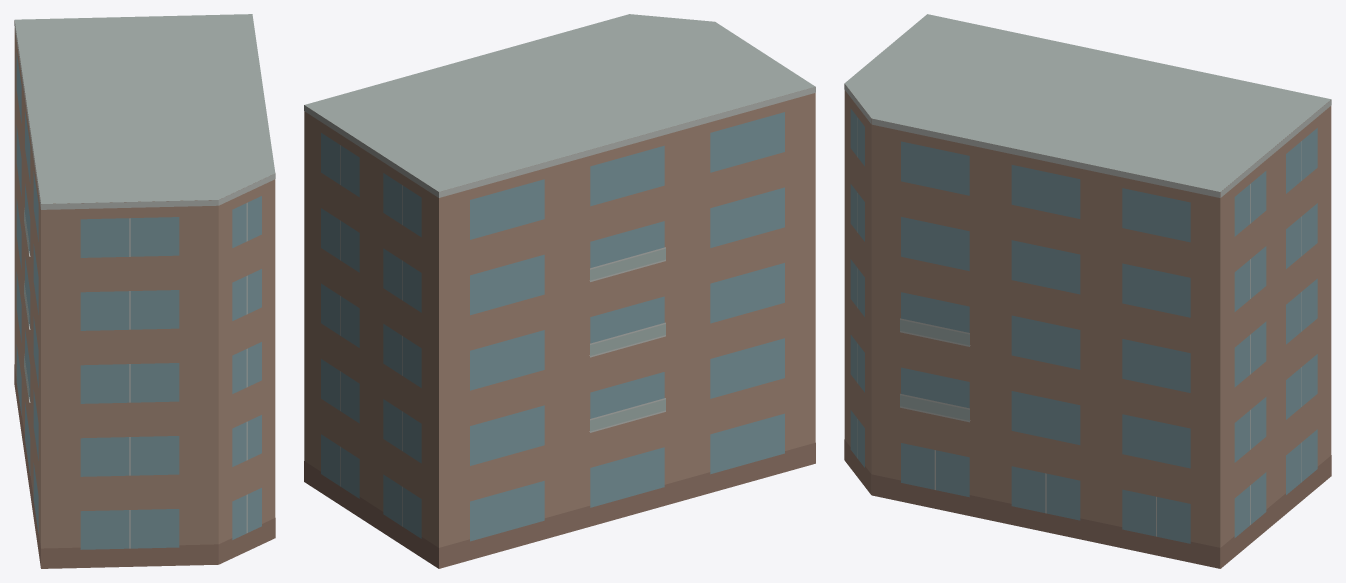
Rendered from survey-upis-32934349.glb.
3 renders of one model, left to right at view 1: azimuth 30°, elevation 25°; view 2: azimuth 150°, elevation 25°; view 3: azimuth 270°, elevation 25°, orthographic. The views are drawn at different scales.
Parts seen in each view (by area): view 1: survey-upis-32934349.tmp; view 2: survey-upis-32934349.tmp; view 3: survey-upis-32934349.tmp.
Part boxes in pixels (x1,y1,x2,y2): survey-upis-32934349.tmp: (14,14,275,568); survey-upis-32934349.tmp: (304,14,815,568); survey-upis-32934349.tmp: (844,14,1331,568).
Bounding box in the file's own units: 15.36 × 15.15 × 17.76.
